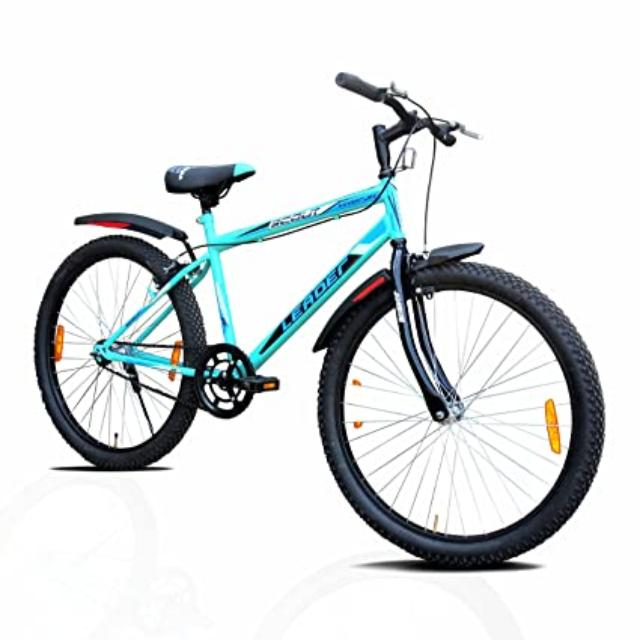obstacle: (28, 56, 602, 588)
